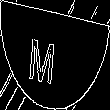M_N: (40, 26, 70, 84)
